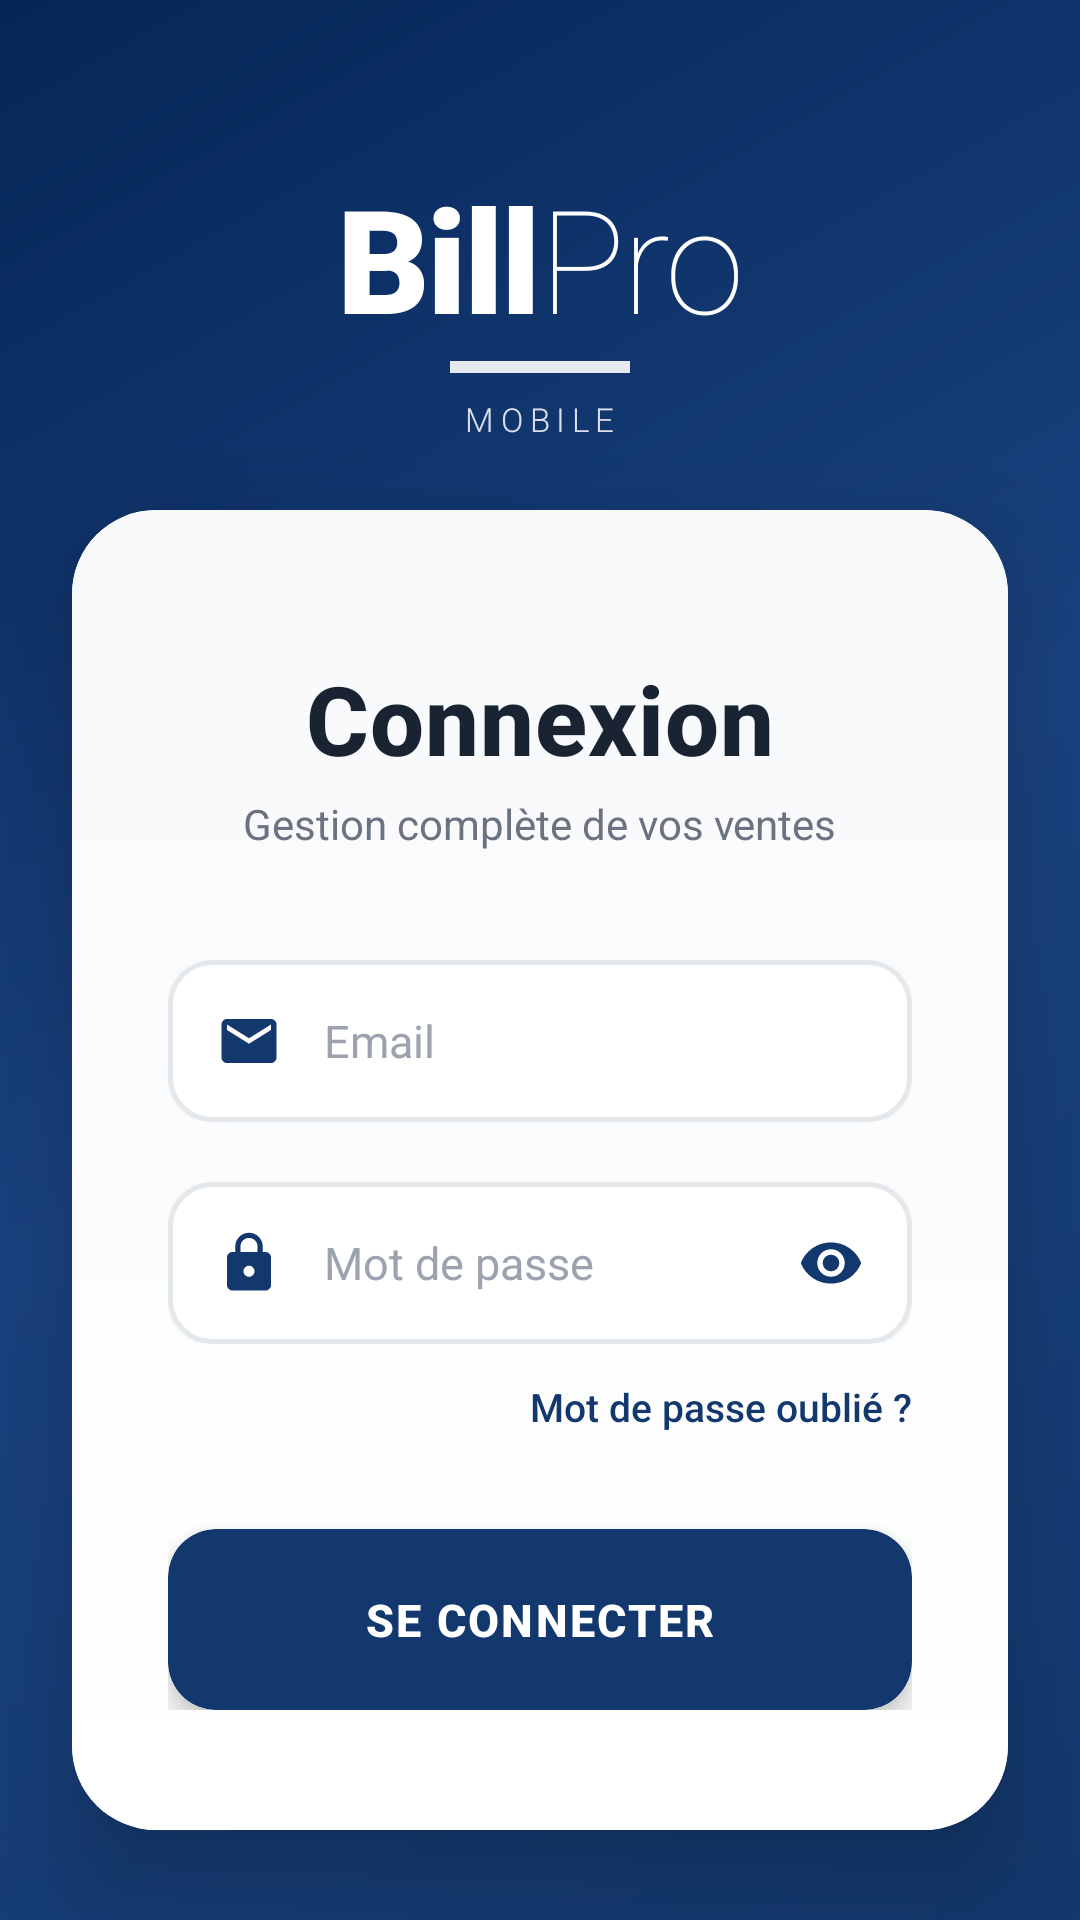

Icon click points for this 1080px x 1920px phone screenshot, format (x,y):
eye: (831,1263)
lock: (249,1261)
